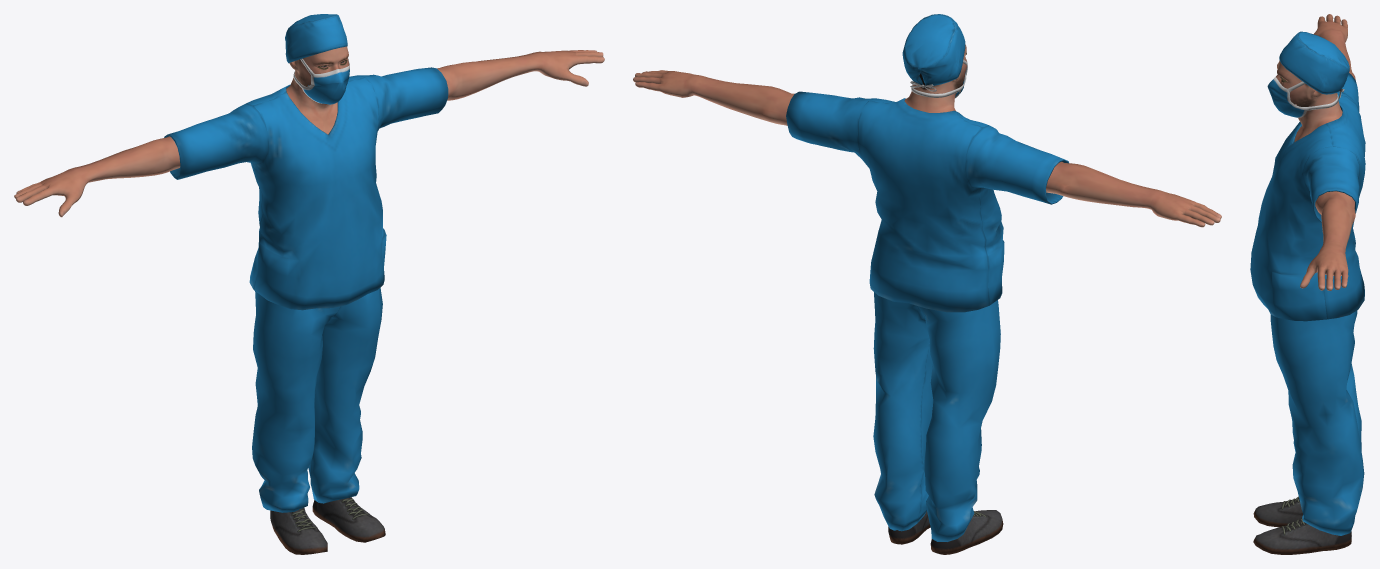
File: Surgeon.obj
3 views of the same model, side by side, from view 1: azimuth 30°, elevation 25°; view 2: azimuth 150°, elevation 25°; view 3: azimuth 270°, elevation 25° (orthographic). The views are drawn at different scales.
Visible parts, largest first — view 1: Tops, Bottoms, Body, Shoes, Hats, Masks; view 2: Tops, Bottoms, Body, Hats, Shoes; view 3: Tops, Bottoms, Body, Shoes, Hats, Masks.
Boxes of the visible parts, x1,y1,x2,y2 form: Tops: [164, 67, 448, 310]; Bottoms: [252, 288, 382, 512]; Body: [14, 46, 604, 217]; Shoes: [270, 497, 385, 554]; Hats: [285, 14, 347, 63]; Masks: [293, 58, 349, 104]; Tops: [786, 91, 1068, 312]; Bottoms: [873, 292, 1000, 541]; Body: [633, 44, 1221, 227]; Hats: [902, 14, 965, 91]; Shoes: [888, 510, 1003, 554]; Tops: [1250, 73, 1365, 321]; Bottoms: [1270, 310, 1364, 535]; Body: [1276, 14, 1355, 290]; Shoes: [1253, 496, 1351, 554]; Hats: [1279, 31, 1349, 98]; Masks: [1267, 76, 1338, 117].
Bounding box in the file's own units: 213 × 179 × 37.54.
1 material, 1 textured.
